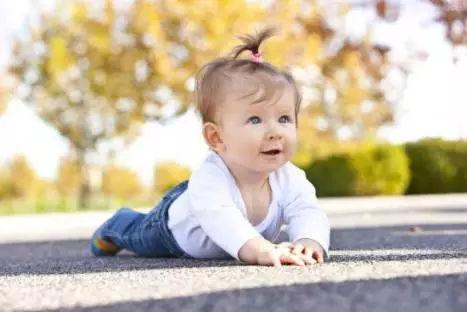Fall-Detected: (72, 9, 344, 270)
